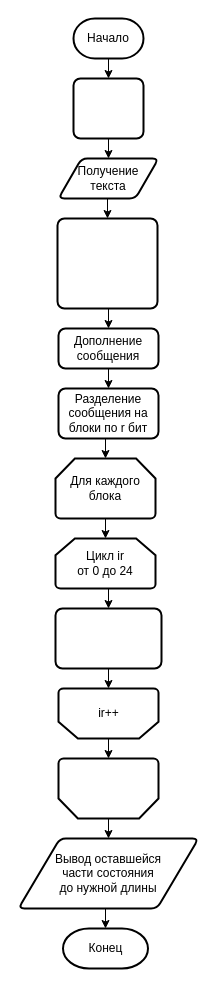
Image size: 216x986. Some labels were removed from this diagram. The shapes that lost their labels are listed below. From the top down, each one's centre as x and y in pixels, then its label:
At point 108,108: "b = 1600 c = 512 r = 1088".
At point 107,263: "Инициализация начального состояния A - матрицы нулей 5x5x64".
At point 108,638: "Вызов функций Θ, ρ, π, χ и ι".
At point 108,788: "Следующий блок".
